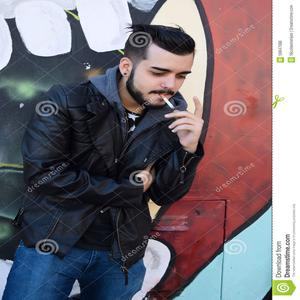cigarette: (160, 93, 176, 110)
